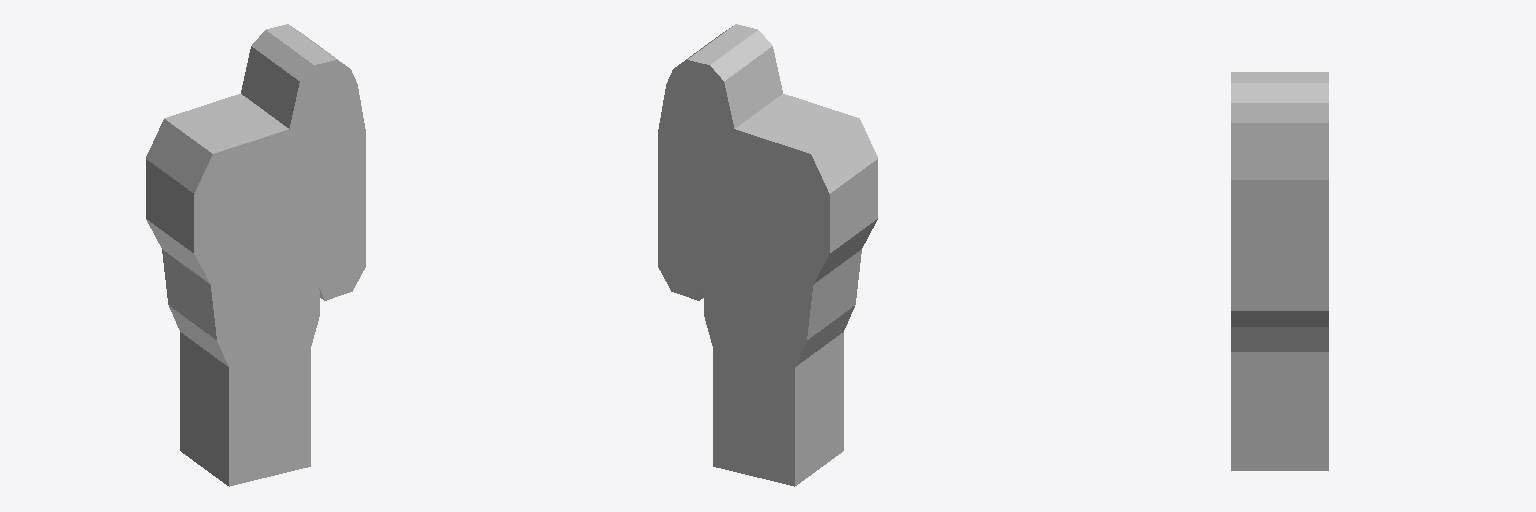
File: roughMech.obj
The picture shows the model from 3 angles: view 1: azimuth 30°, elevation 25°; view 2: azimuth 150°, elevation 25°; view 3: azimuth 270°, elevation 25°; orthographic projection.
Visible parts, largest first — view 1: Cube.002; view 2: Cube.002; view 3: Cube.002.
Part boxes in pixels (x1,y1,x2,y2): Cube.002: (146, 24, 365, 486); Cube.002: (658, 24, 877, 486); Cube.002: (1231, 72, 1328, 470).
Size of the model in its own units: 0.9474 by 2.11 by 0.4646.